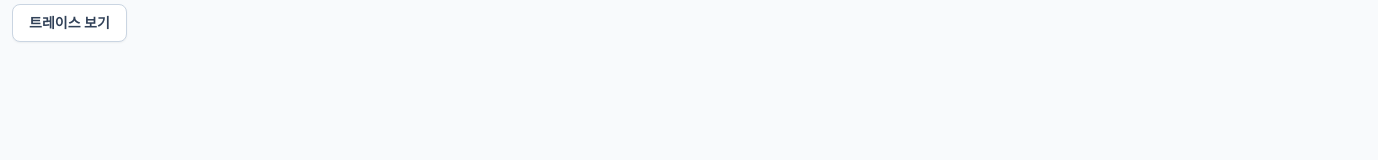
Test: the trace entry point on a timeline build › shows a 404 as 'no stored trace' and any other failure as the generic message
Later steps or results of the test are not shown.
Click the button "트레이스 보기" at (69, 23), box [12, 4, 127, 42]
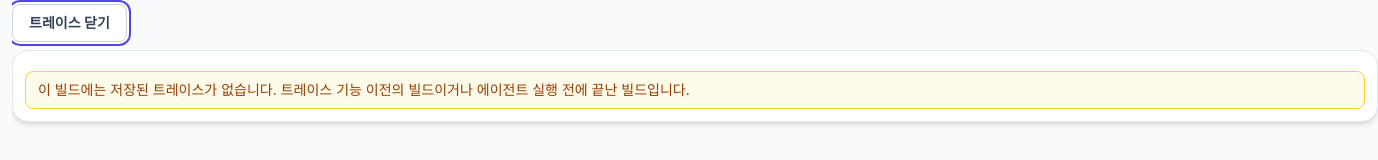
Check: the text "저장된 트레이스가 없습니다" is shown, box [38, 81, 690, 98]
